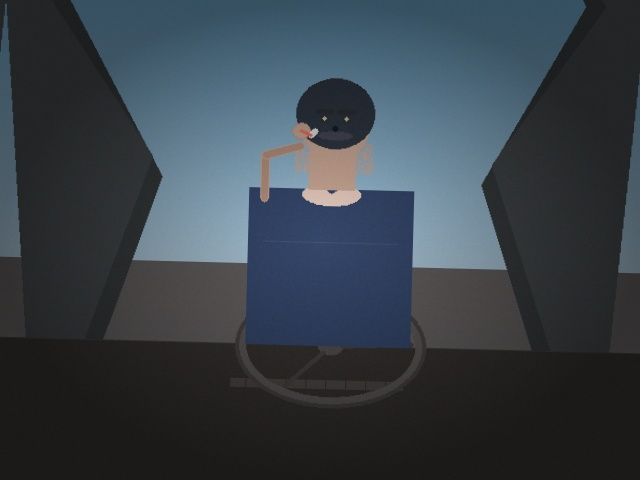smoking: (288, 116, 322, 146)
